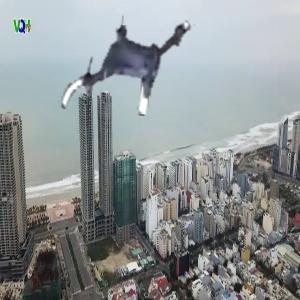drone: (57, 6, 194, 143)
